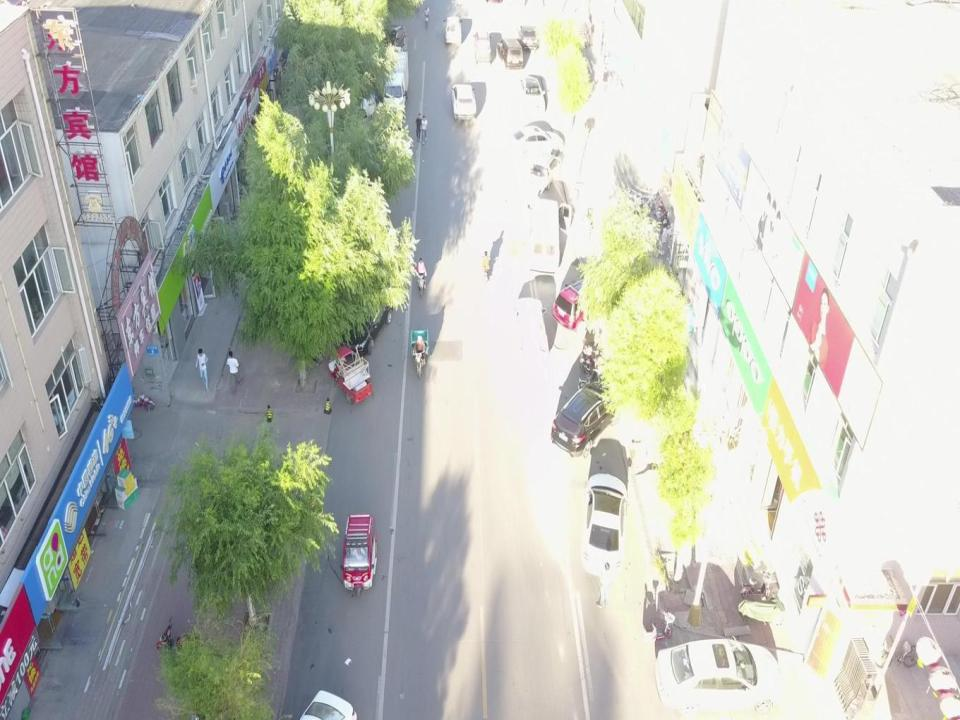car: (654, 636, 782, 714), (550, 380, 620, 459), (331, 278, 394, 356), (581, 473, 628, 577), (513, 297, 550, 373), (552, 276, 604, 328), (321, 82, 376, 120), (298, 690, 356, 720), (508, 126, 564, 157), (529, 154, 562, 190), (516, 74, 546, 113), (451, 83, 477, 120), (378, 24, 406, 52), (515, 25, 539, 51), (444, 16, 462, 45)
truck: (382, 52, 409, 120)
van: (528, 198, 572, 274), (496, 38, 524, 70), (473, 31, 491, 66)
